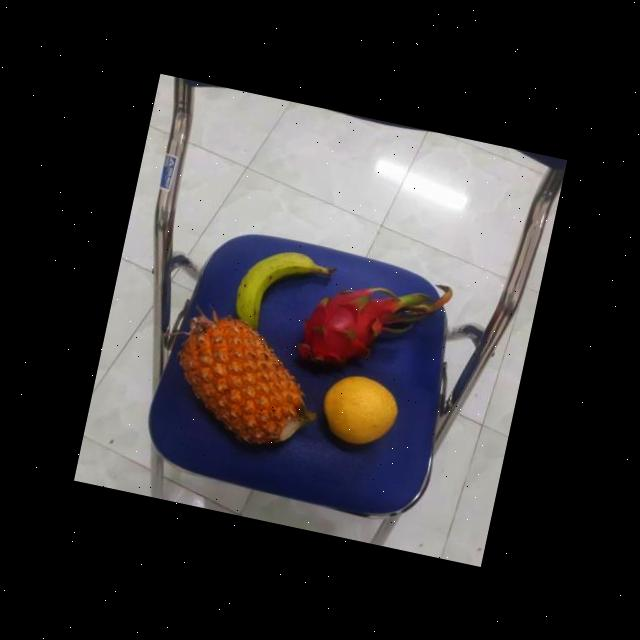banana: (225, 240, 328, 340)
pear: (311, 372, 404, 454)
pineapple: (162, 305, 327, 454)
pitaya: (290, 274, 402, 382)
